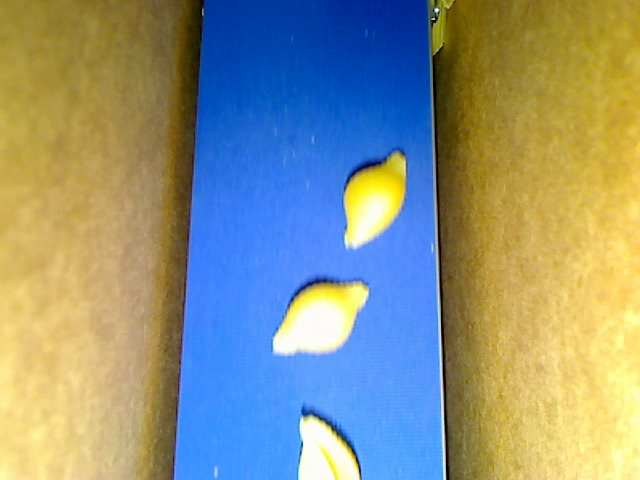shell: (270, 283, 366, 361), (340, 149, 406, 252), (291, 408, 367, 479)
